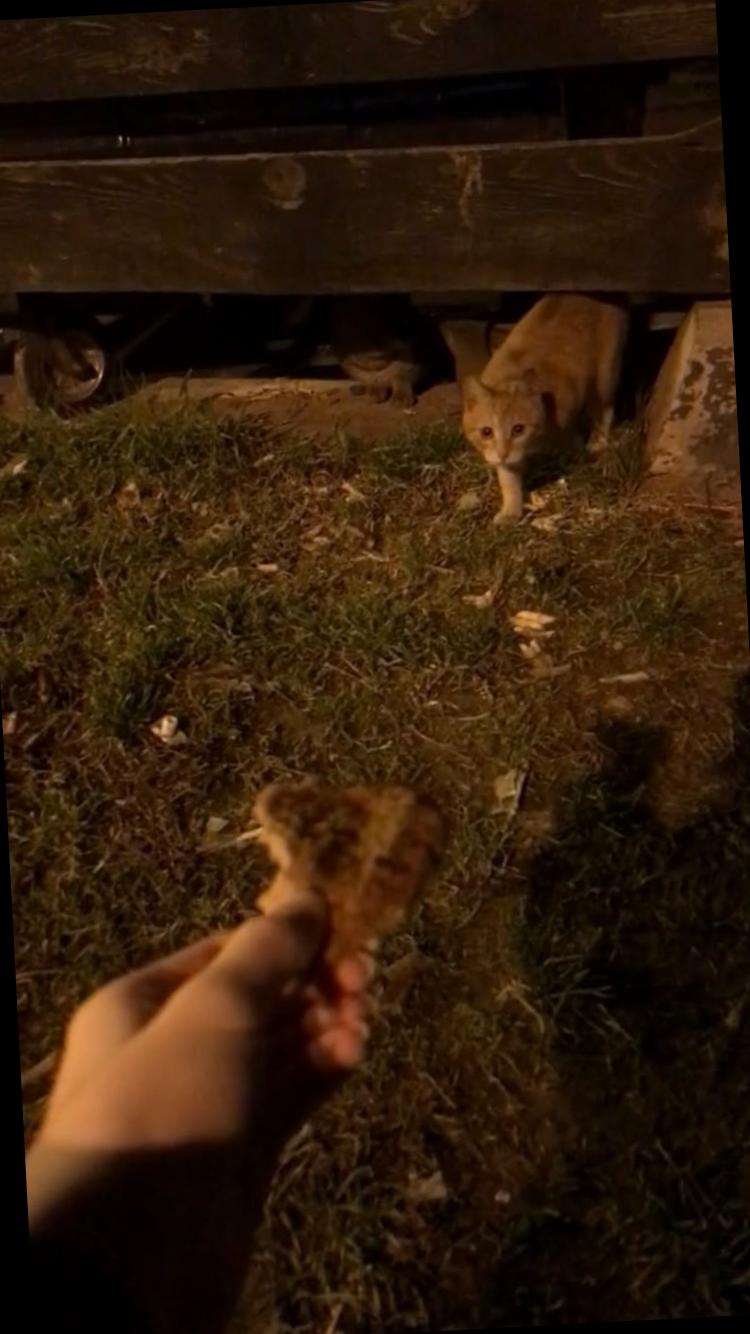macka: (458, 286, 636, 524)
